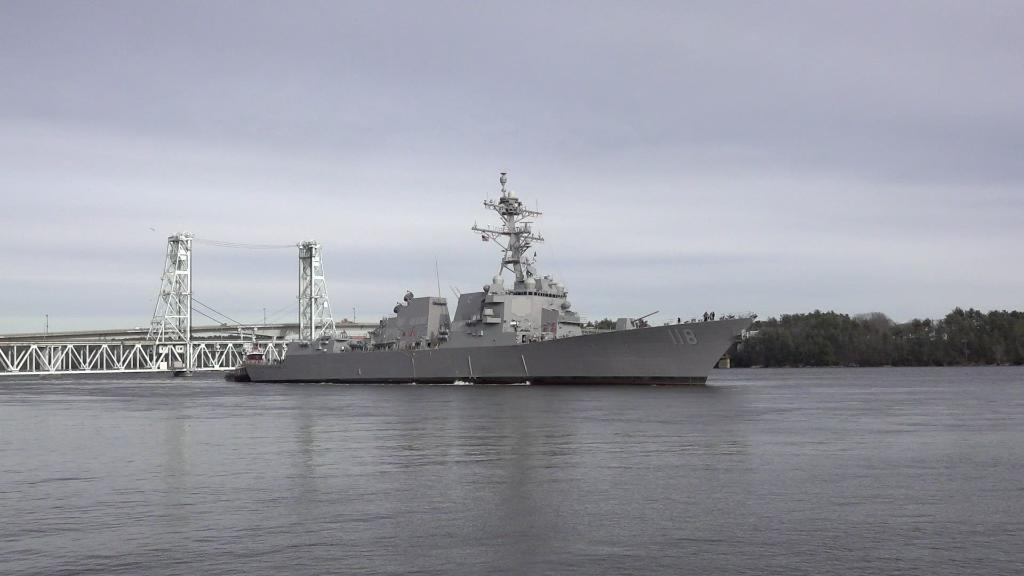Warship: (222, 166, 758, 392)
